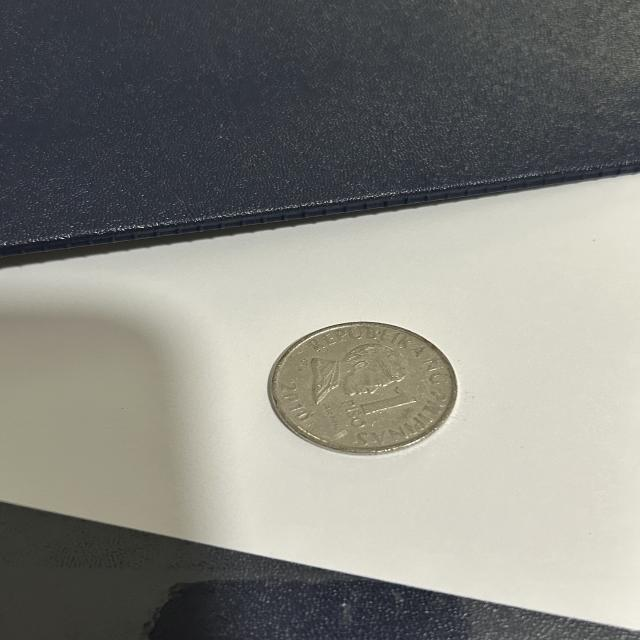1_Old_Front: (337, 382, 419, 433)
